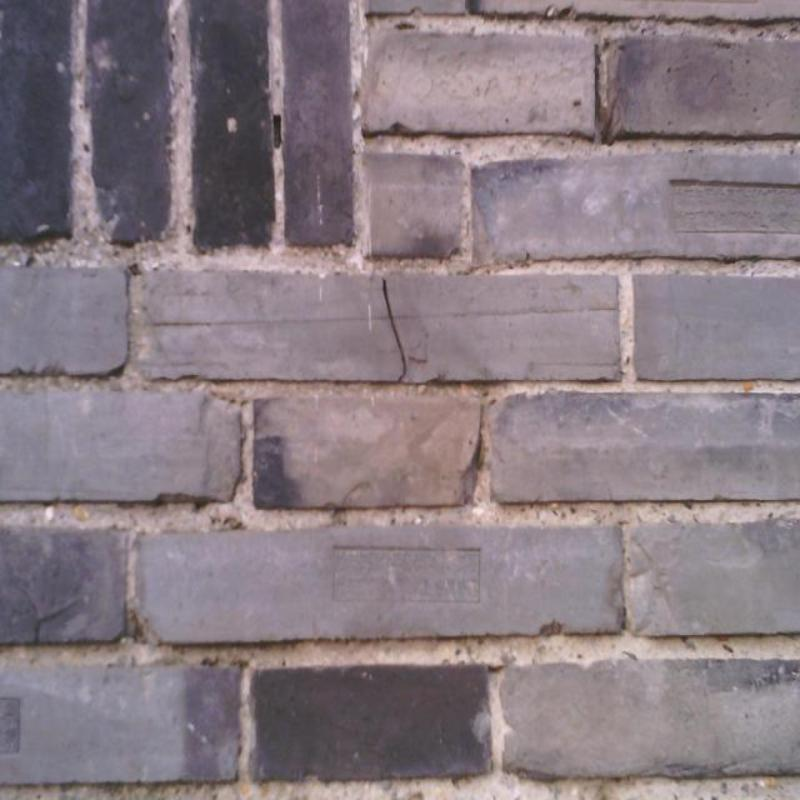crack: (383, 279, 408, 383)
